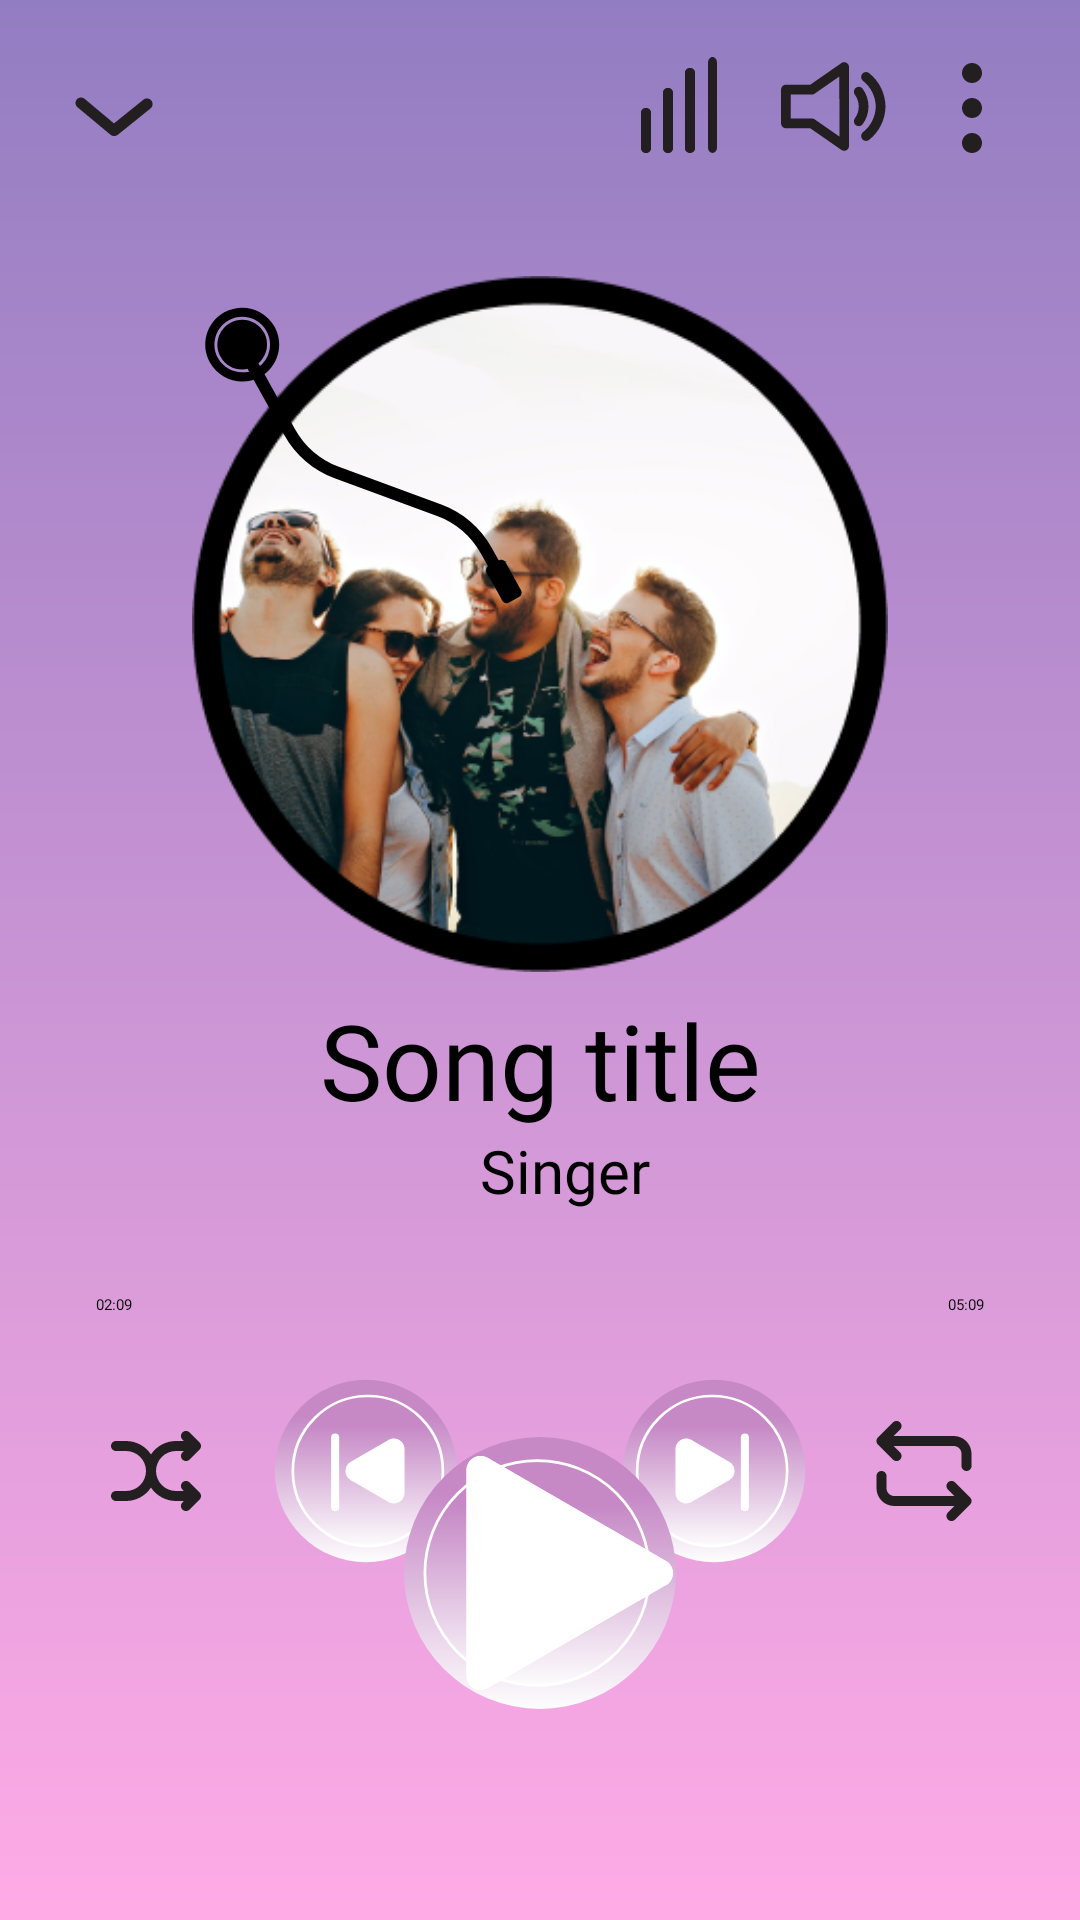

Icon click points for this 1080x1920 phone screenshot, format [x,y]:
arrow downward: [114,116]
bar chart: [679,105]
more: [972,108]
next music: [708,1476]
prev music: [371,1476]
repeat: [924,1471]
shuffle: [156,1471]
volume up: [833,106]
